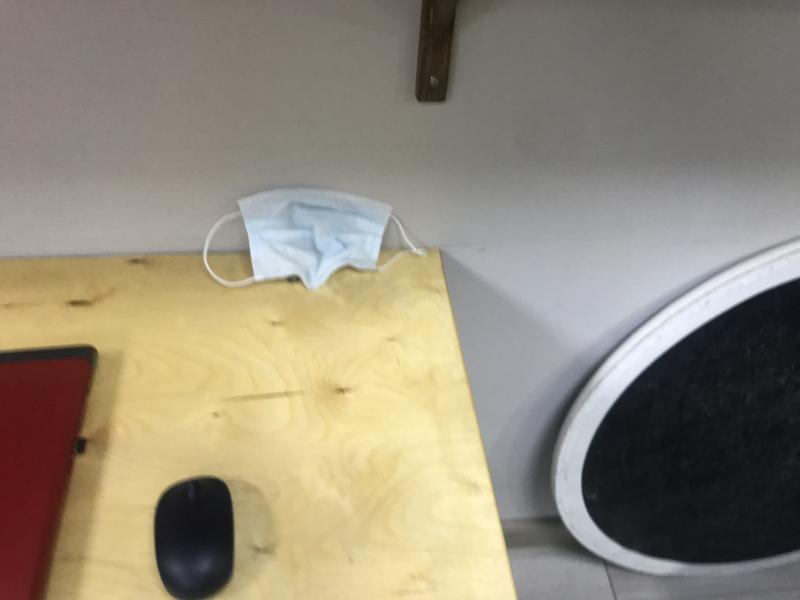medical_mask: (204, 187, 427, 287)
